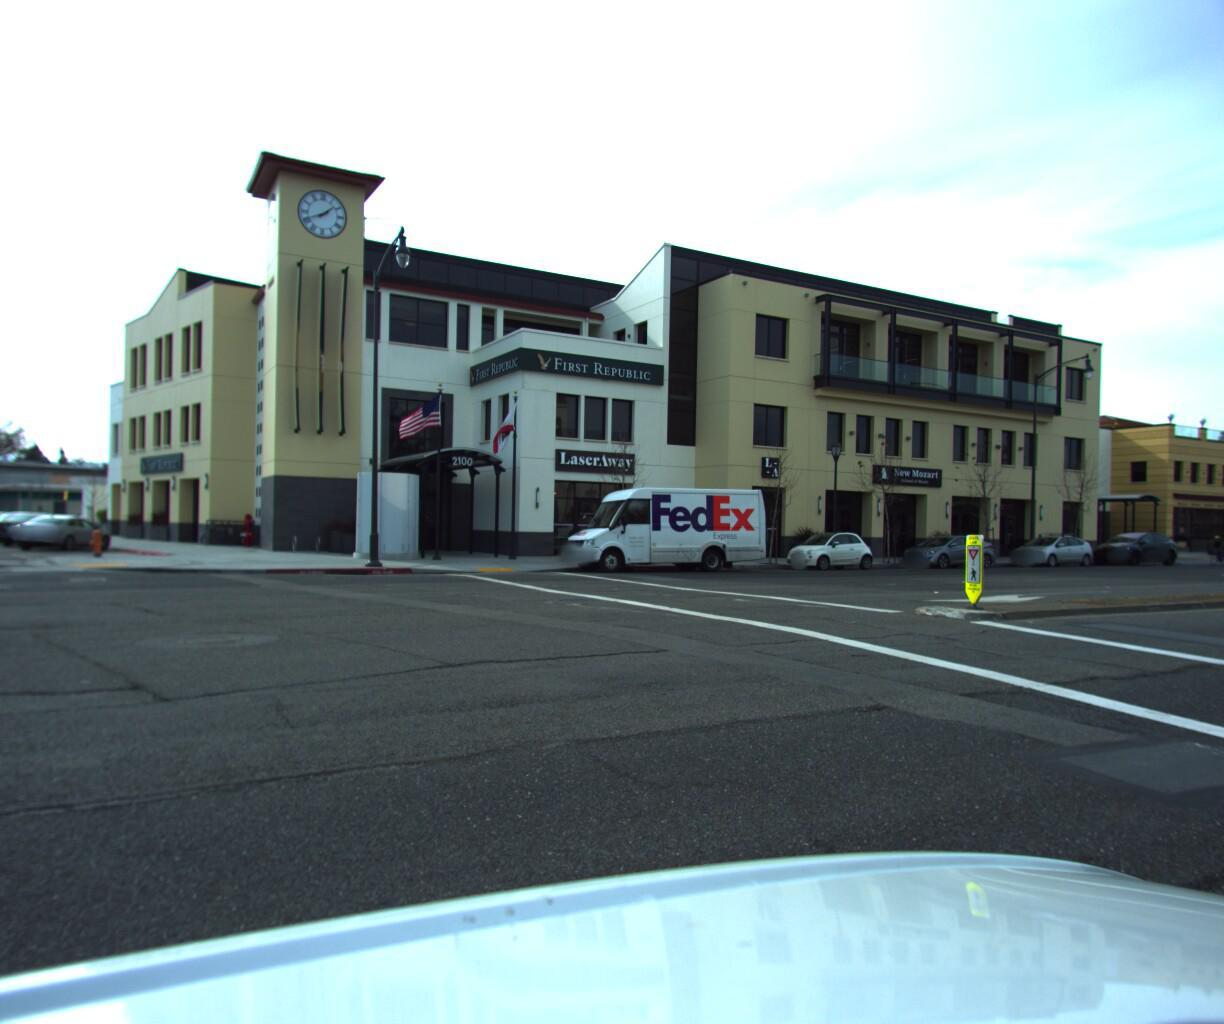bicycle: (1195, 529, 1224, 560)
car: (774, 525, 877, 569), (0, 513, 114, 553), (889, 528, 999, 567), (1000, 527, 1103, 565), (1081, 525, 1178, 562)
truck: (549, 477, 767, 575)
